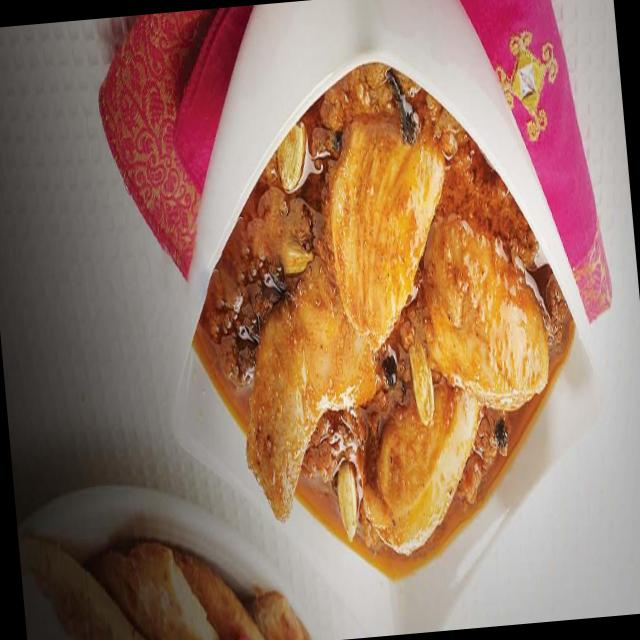chicken: (186, 106, 584, 612)
